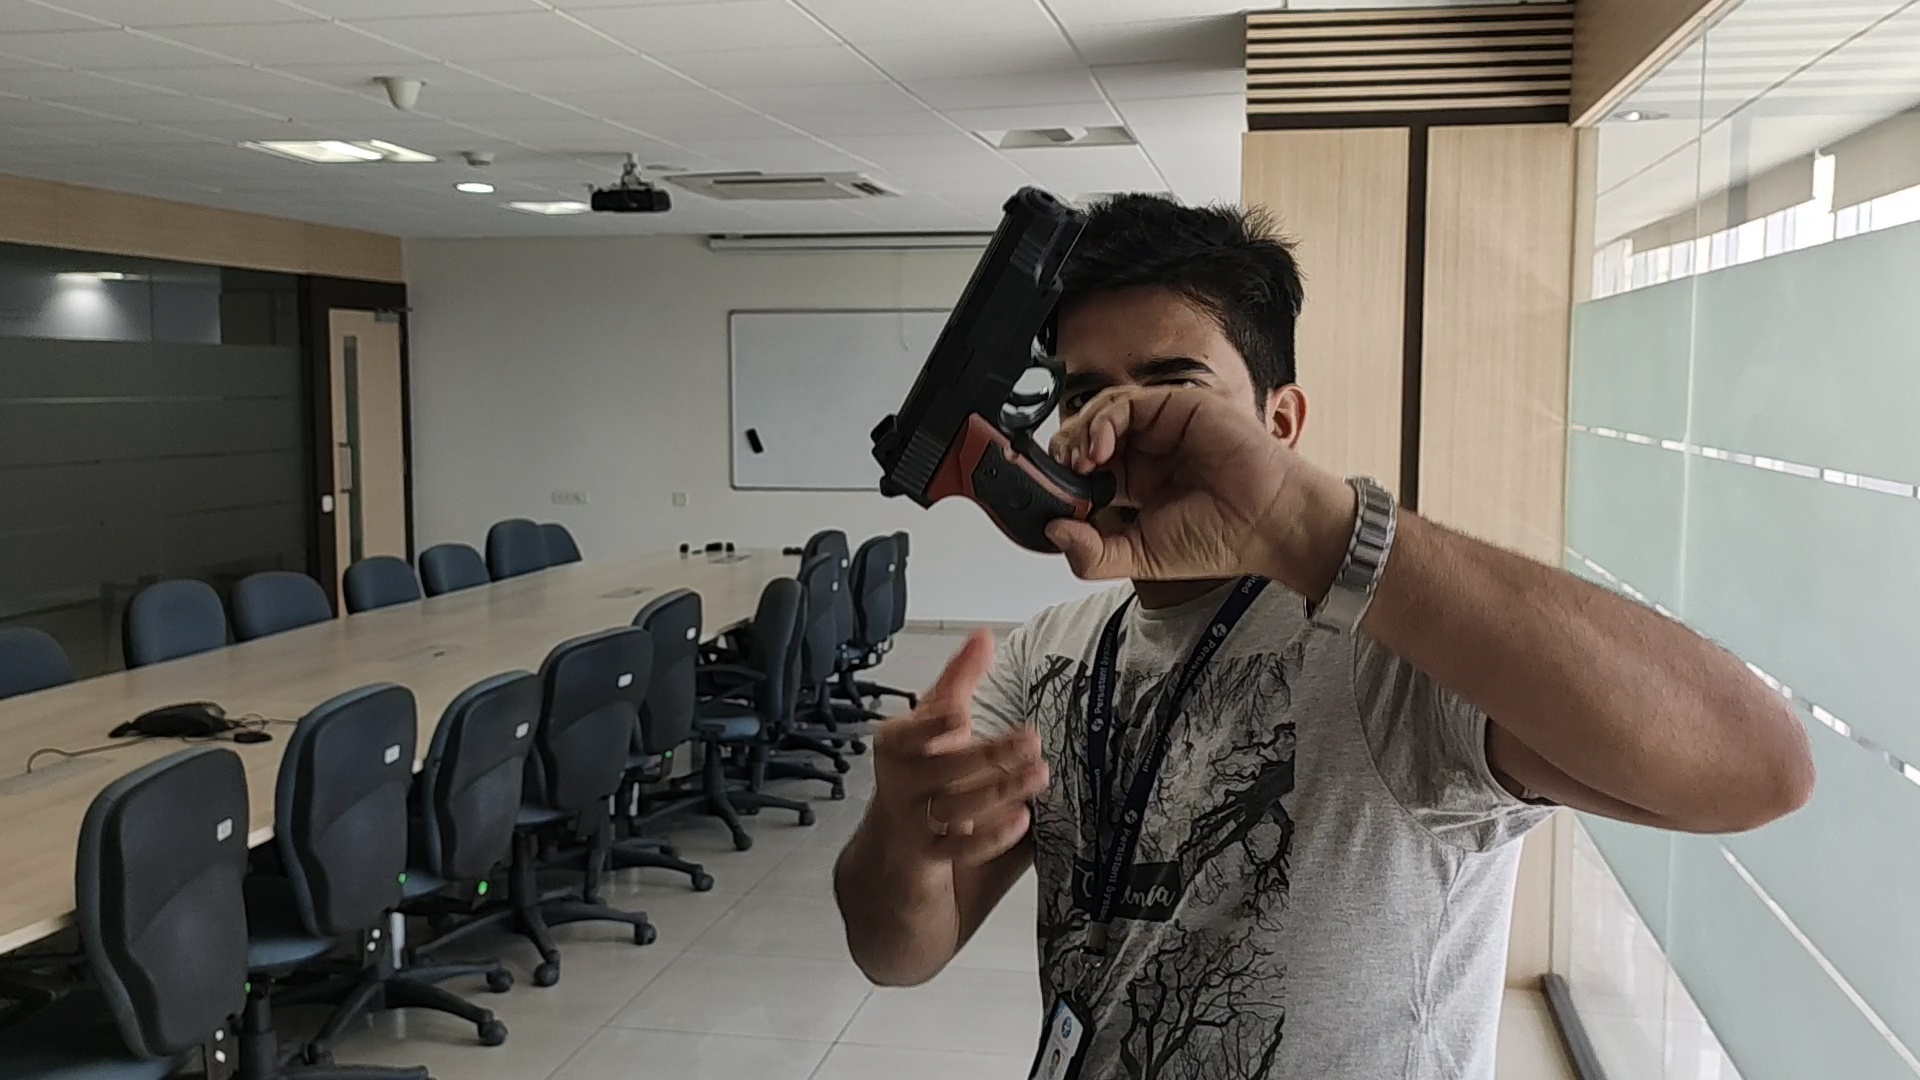gun: (869, 186, 1043, 554)
